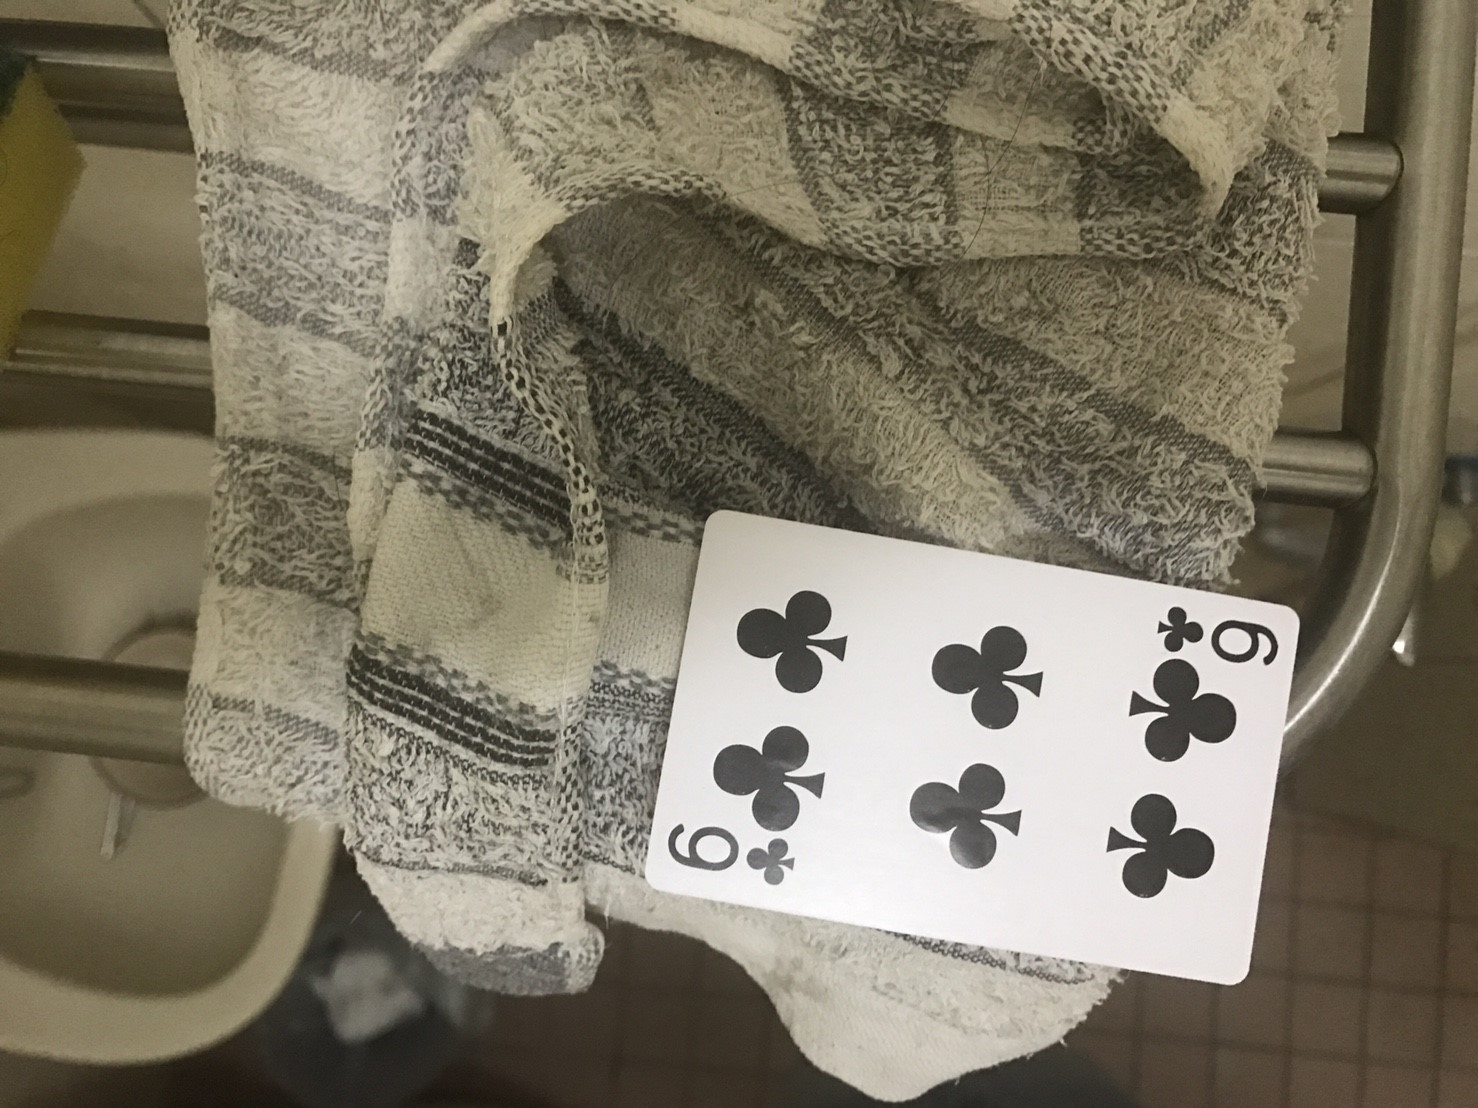clubs: (1122, 656, 1244, 784), (731, 578, 859, 697), (926, 618, 1051, 738), (910, 760, 1031, 873), (715, 723, 827, 832), (1111, 791, 1214, 897), (1147, 601, 1206, 654), (747, 838, 798, 893)
